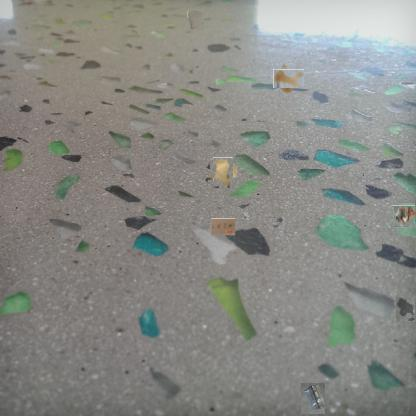dirty: (301, 384, 325, 416), (211, 160, 236, 186), (393, 204, 416, 227), (211, 218, 235, 235), (186, 8, 204, 30)
liquid: (276, 66, 301, 91), (396, 296, 416, 322)
